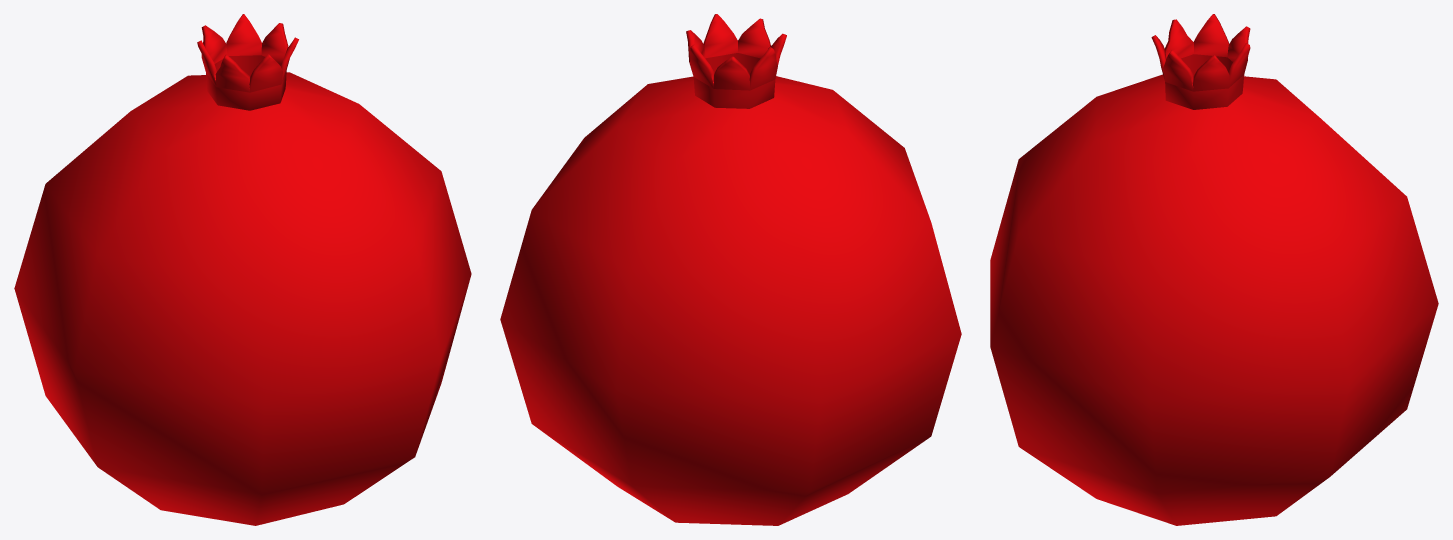
The model's file is Pomegranate.fbx.
3 renders of one model, left to right at view 1: azimuth 30°, elevation 25°; view 2: azimuth 150°, elevation 25°; view 3: azimuth 270°, elevation 25°, orthographic.
Visible parts, largest first — view 1: Sphere.001; view 2: Sphere.001; view 3: Sphere.001.
Part boxes in pixels (x1=…): Sphere.001: x1=14, y1=14, x2=471, y2=525; Sphere.001: x1=500, y1=14, x2=961, y2=525; Sphere.001: x1=990, y1=14, x2=1438, y2=525.
Size of the model in its own units: 195 by 218 by 190.
